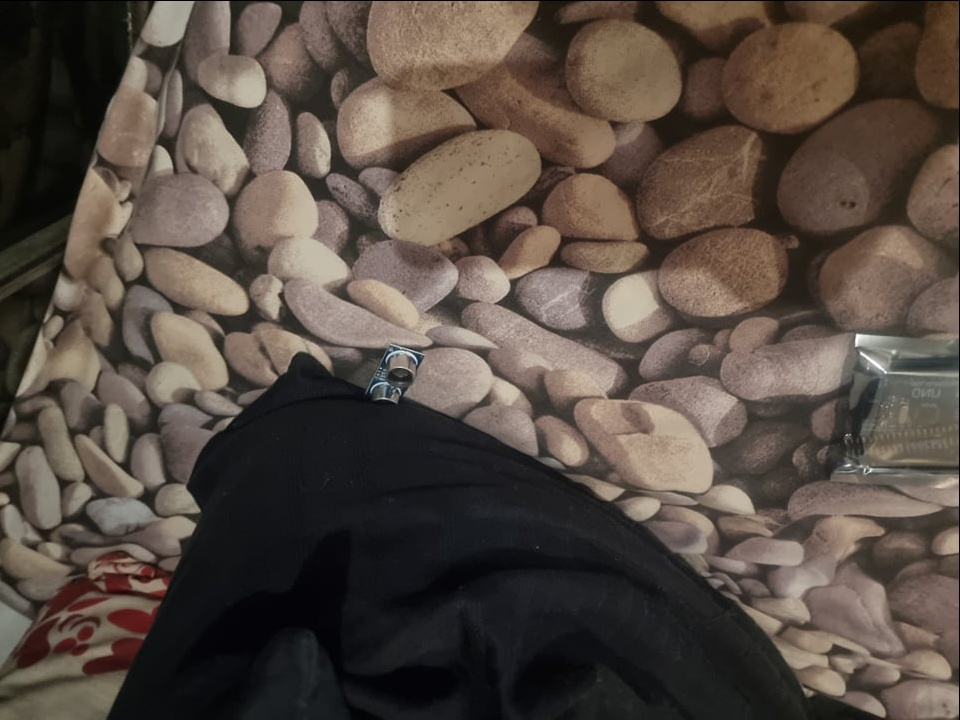SENSOR: (356, 343, 436, 408)
